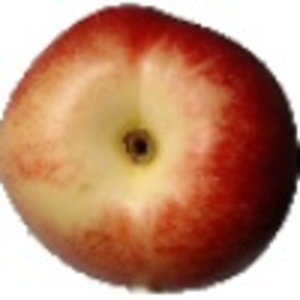nectarina: (1, 2, 300, 298)
